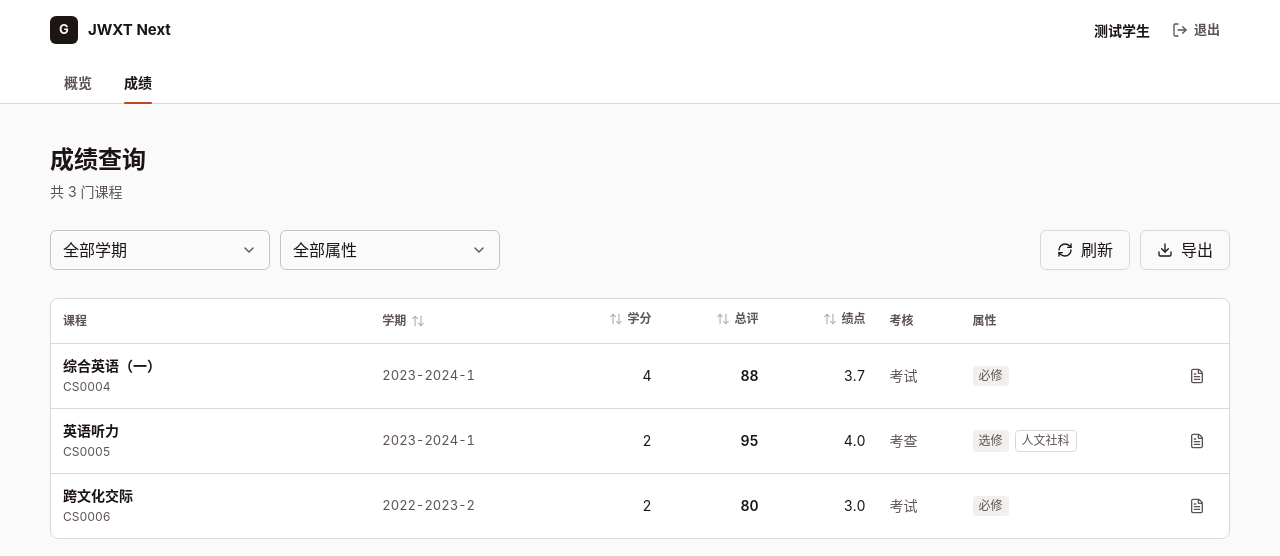
grades page › 按学期筛选后仅展示匹配课程，可一键清除
Expected: the heading "成绩查询" is shown, [50,145,146,174]
Step 1. Click the dropdown named "按学期筛选" → (160, 250), box [50,230,270,270]
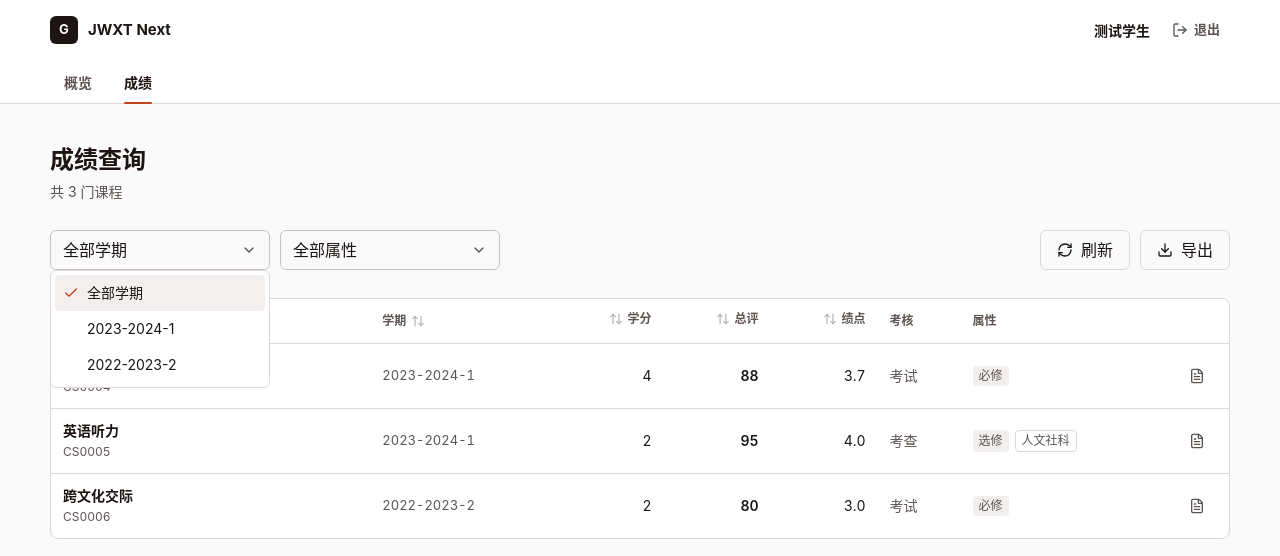
Step 2. Click the option "2022-2023-2" → (132, 364), box [87,356,176,373]
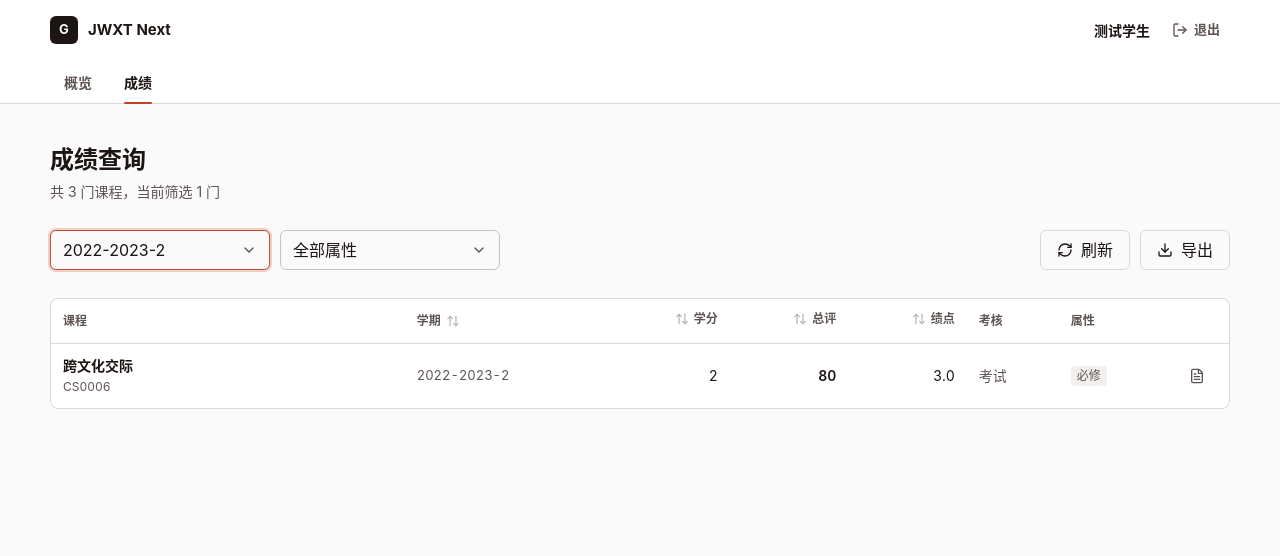
Expected: the text "跨文化交际" is shown, [63,357,133,374]
Result: the text "综合英语（一）" is gone
Result: the text "共 3 门课程，当前筛选 1 门" is shown at [50,183,220,200]
Step 3. Click the dropdown named "按课程属性筛选" → (390, 250), box [280,230,500,270]
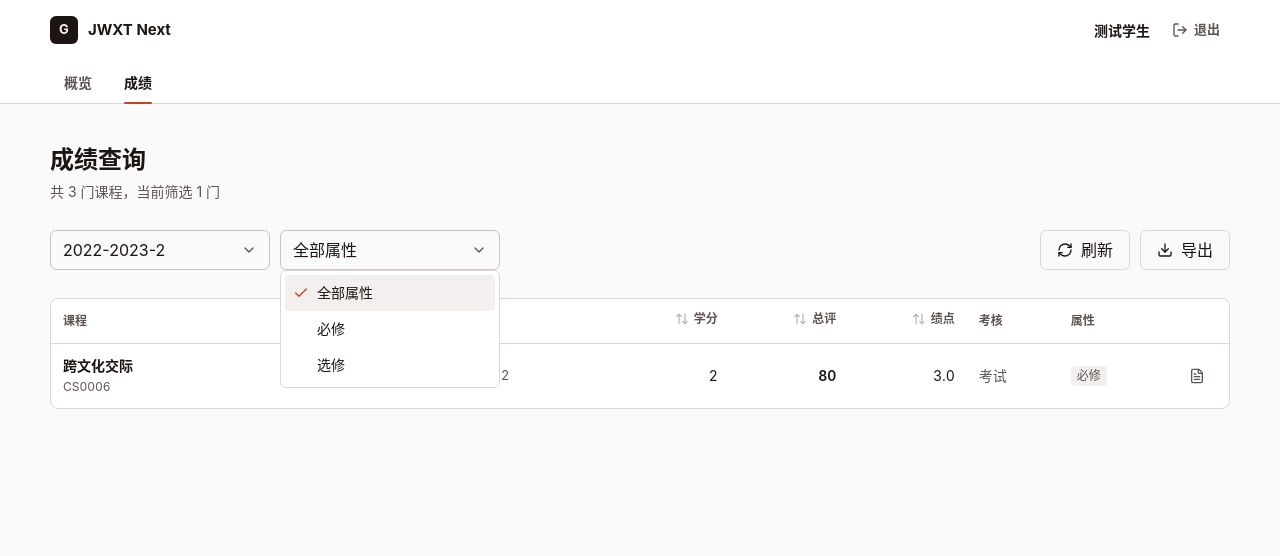
Step 4. Click the option "选修" → (331, 364), box [317,356,345,373]
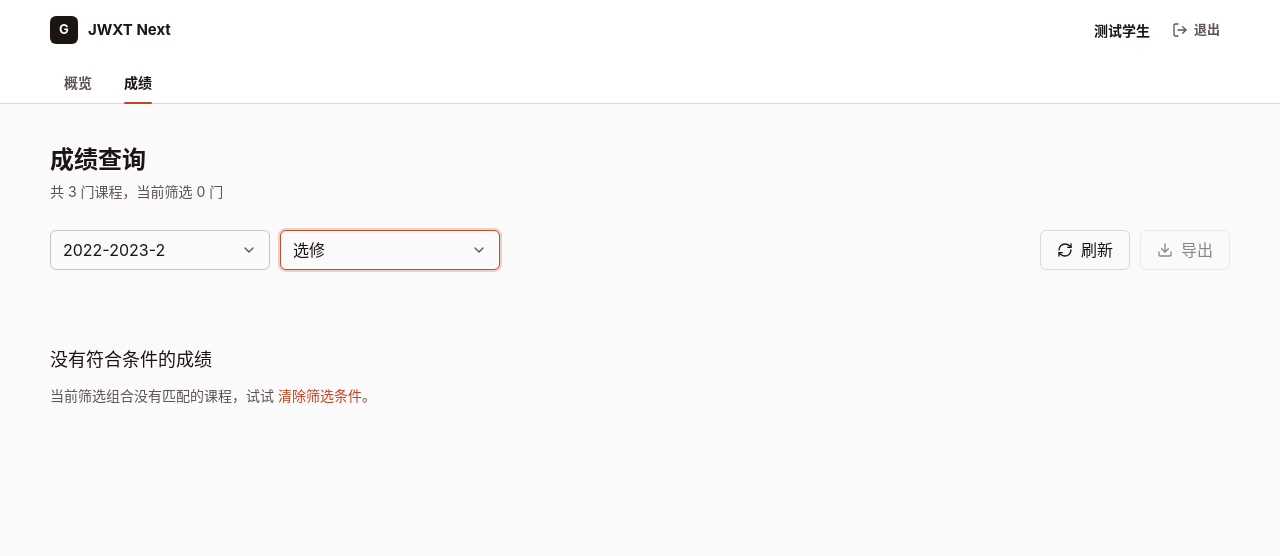
Result: the heading "没有符合条件的成绩" is shown at [50,349,212,370]
Step 5. Click the button "清除筛选条件" → (320, 396), box [278,383,362,408]
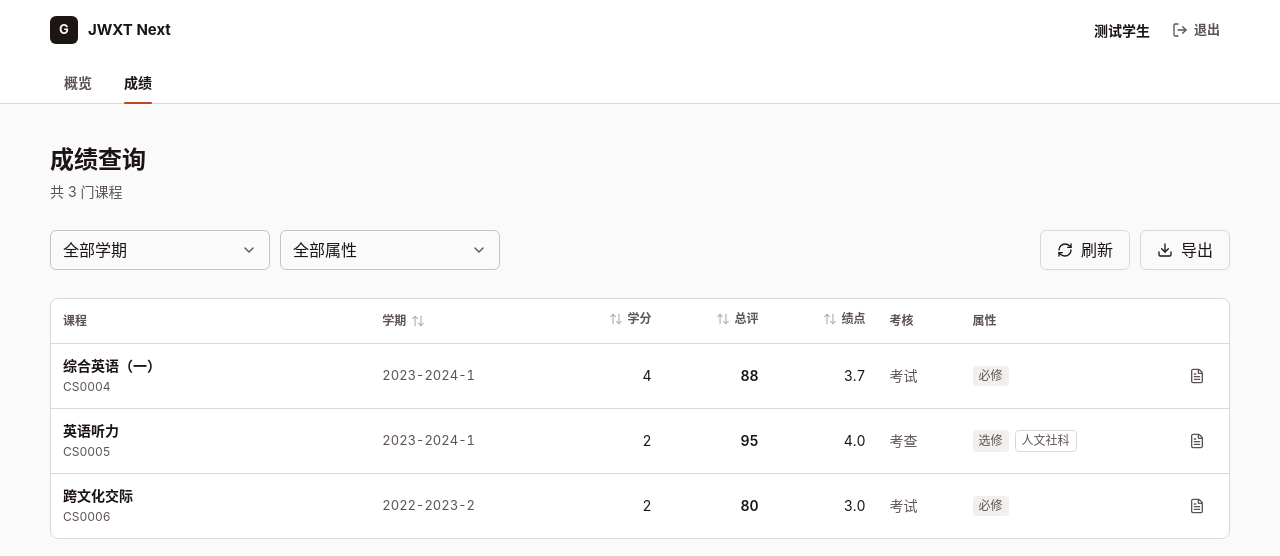
Result: the text "综合英语（一）" is shown at [63,357,161,374]
